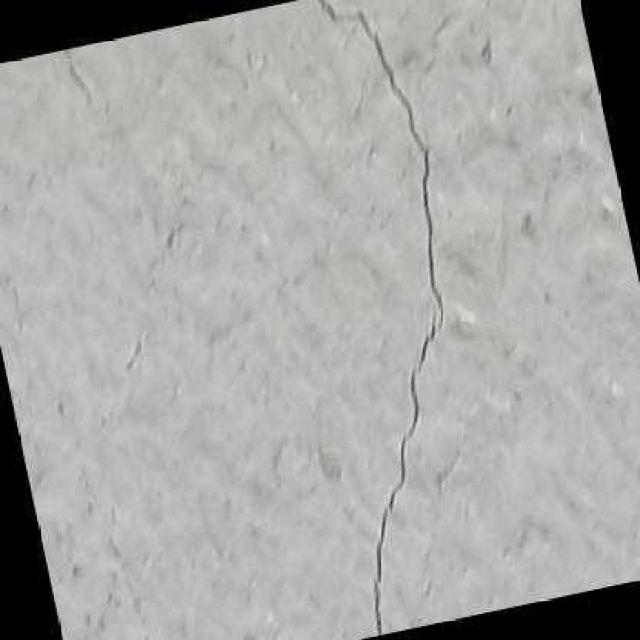D00: (315, 0, 443, 635)
